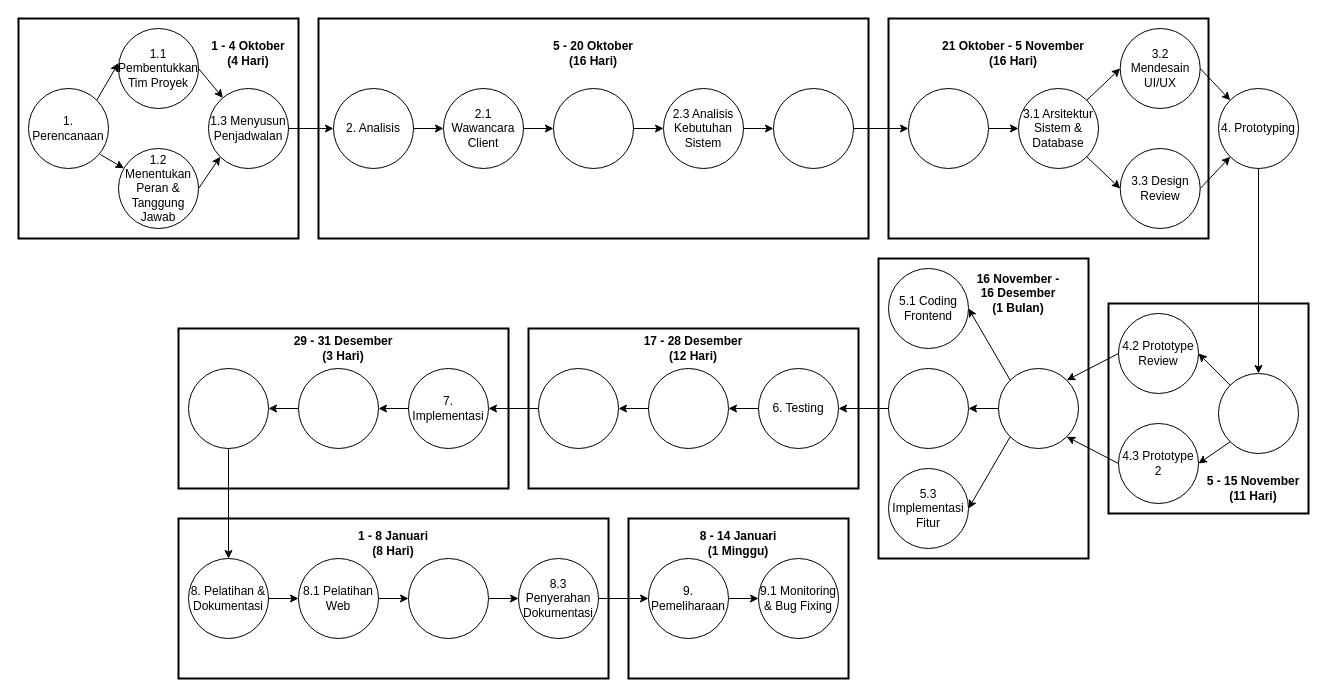
The diagram is 1326 pixels wide and 696 high, and some of its shapes have lost their labels. Each missing label, with the centre of its shape:
"2.2 Identifikasi Masalah & Kebutuhan" belongs at (593,128).
"2.4 Pembuatan RD & BPMN" belongs at (813,128).
"3. Perancangan Sistem" belongs at (948,128).
"4.1 Prototype 1" belongs at (1258,413).
"5. Development" belongs at (1038,408).
"5.2 Coding Backend" belongs at (928,408).
"6.1 Testing & Evaluasi" belongs at (688,408).
"6.2 Bug Fixing" belongs at (578,408).
"7.1 Implementasi Web ke Host" belongs at (338,408).
"7.2 Uji Coba Online" belongs at (228,408).
"8.2 Memberi Guidebook" belongs at (448,598).
